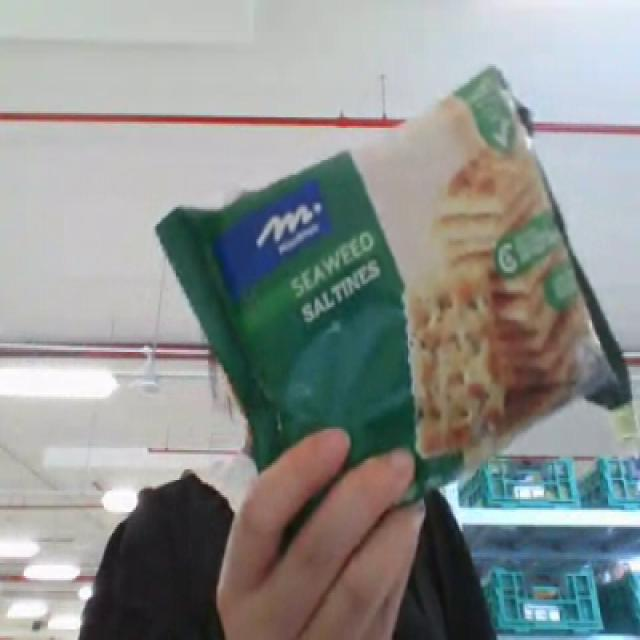object_name: (206, 116, 593, 451)
